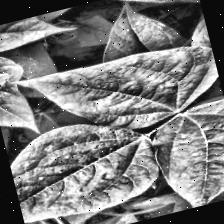Bean Rust: (13, 33, 224, 152), (4, 106, 164, 224), (144, 95, 224, 213)
